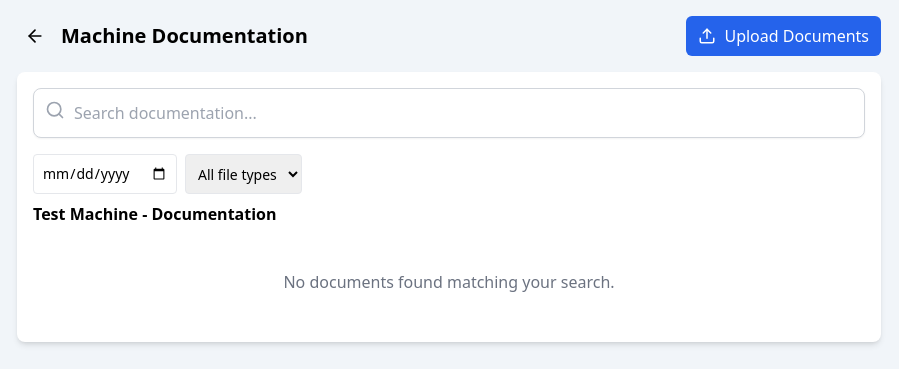
it: ManualViewer PDF/AI › searches by extracted PDF text
Type "AI search" into the field with placeholder "Search documentation..." at (449, 113), box [33,88,865,138]
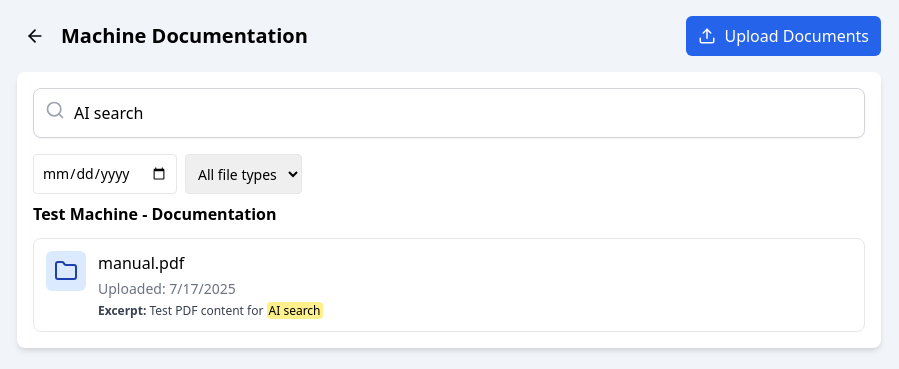
Expected: the heading "manual.pdf" is shown, [98,252,184,274]
